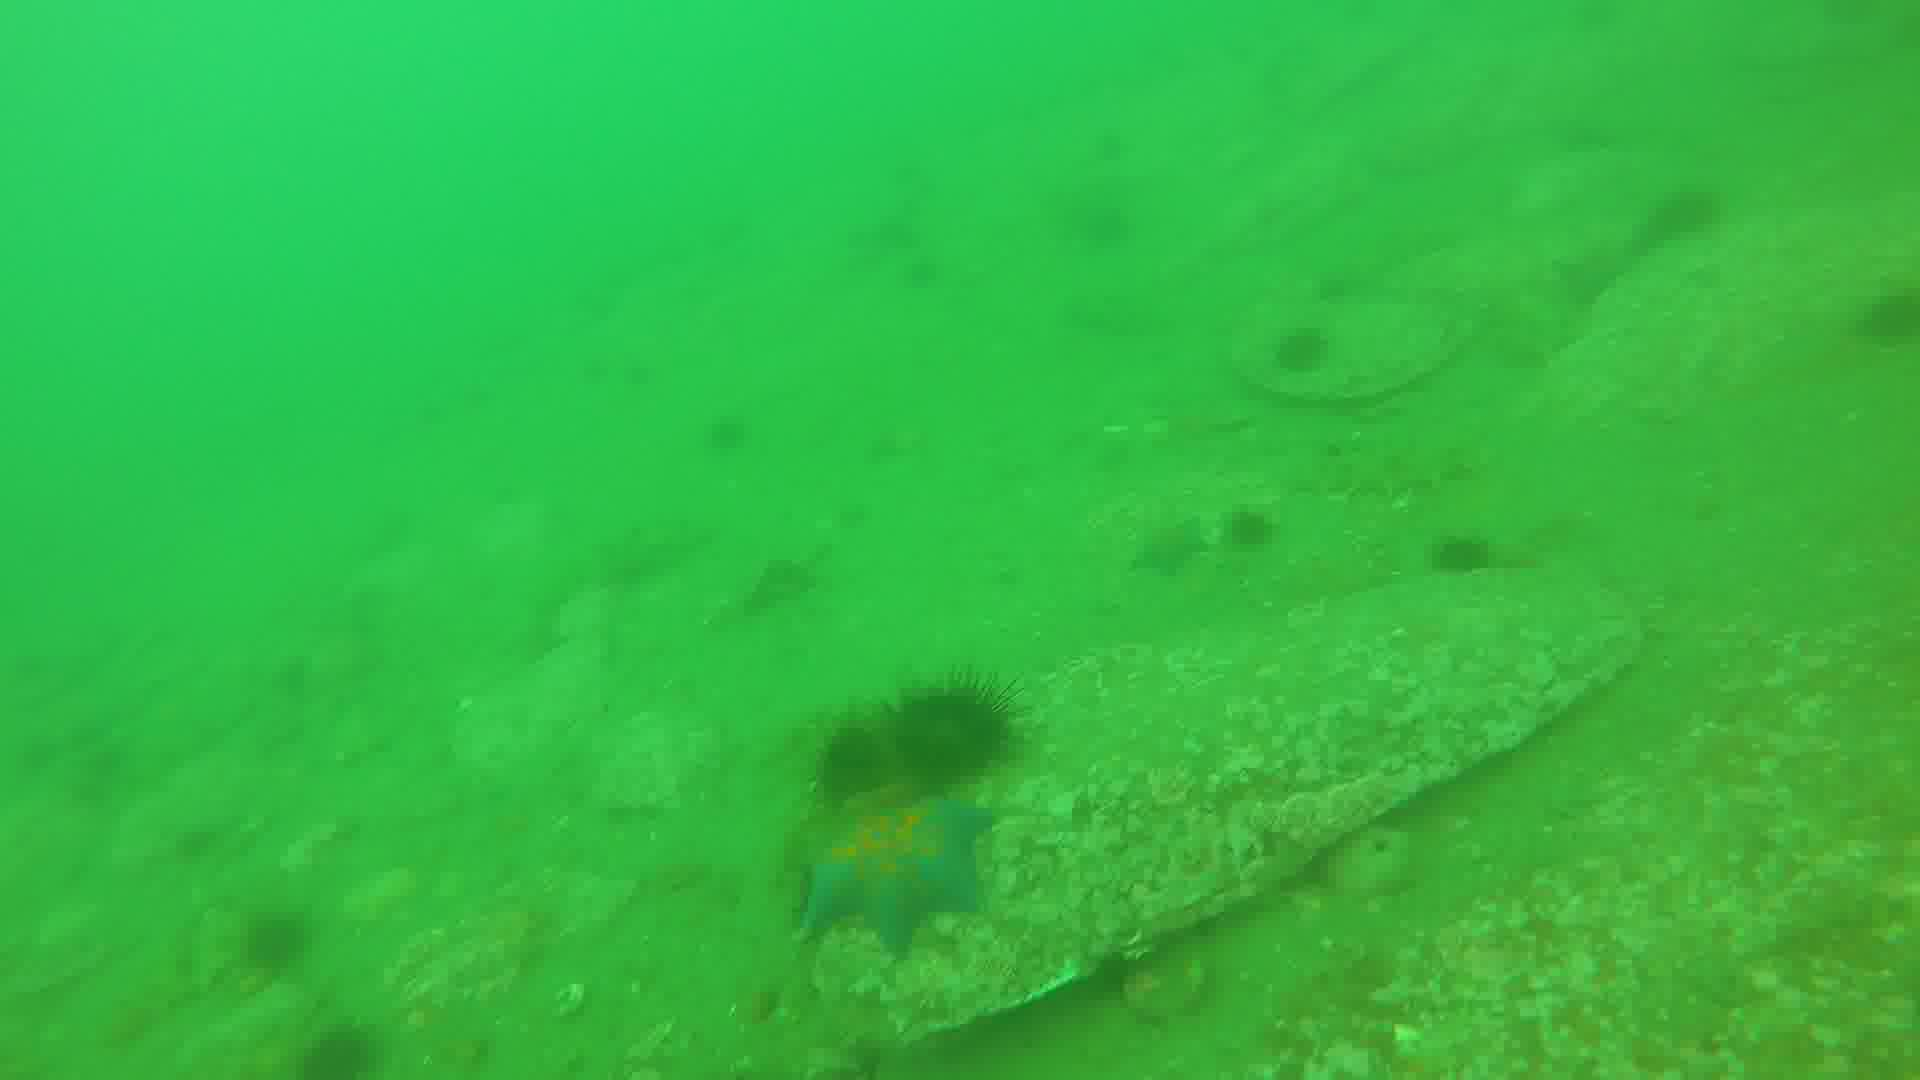echinus: (897, 684, 1014, 786), (808, 716, 899, 789), (299, 1015, 382, 1080), (1634, 189, 1710, 253), (244, 913, 313, 973), (1859, 285, 1920, 351), (1435, 534, 1507, 585), (696, 413, 752, 462), (1276, 334, 1323, 386), (1226, 504, 1273, 545)
starfish: (802, 794, 997, 955), (1135, 517, 1212, 580)
